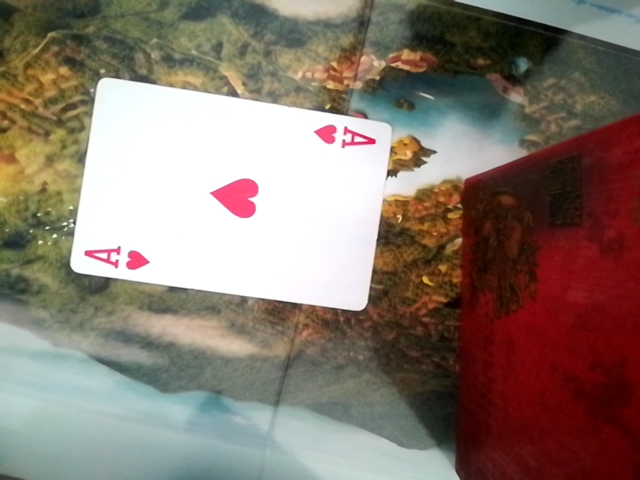hx a: (69, 80, 393, 315)
